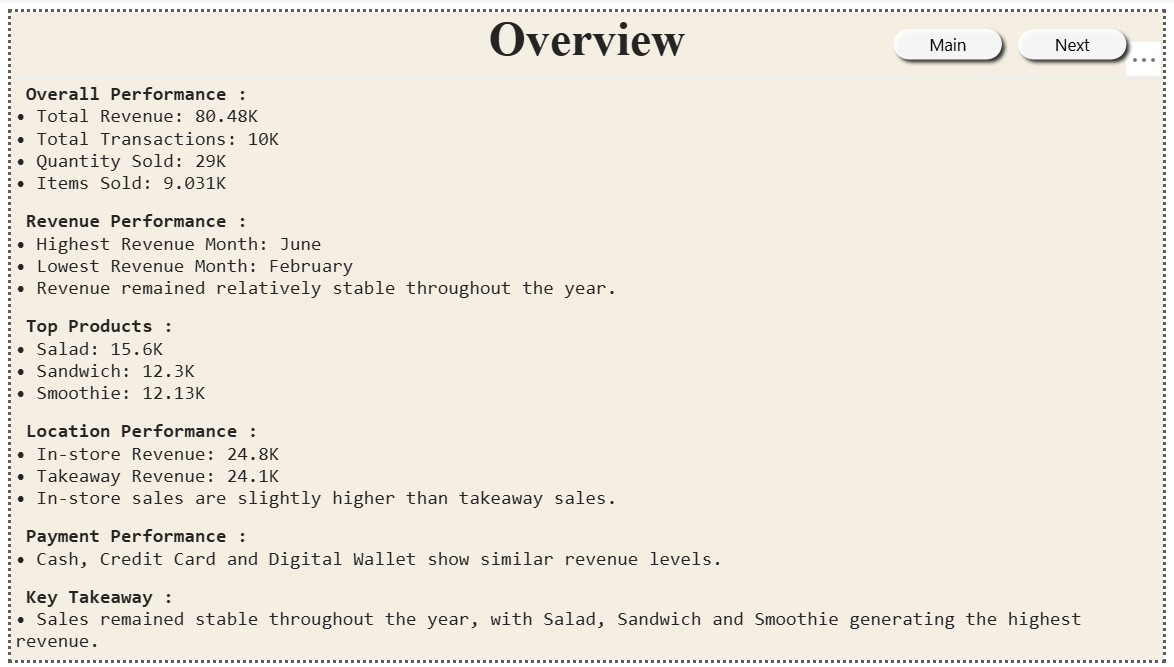

Layout of this report page (visuals, bound fields, positions):
{"tool":"powerbi","page":{"name":"Overview","canvas":[1280,720],"ordinal":1},"visuals":[{"type":"textbox","title":"Overview","box":[0,0,1280,720],"z":0},{"type":"textbox","box":[0,72.5,1280,647.5],"z":1},{"type":"actionButton","box":[1110.3,10.3,138.3,51.7],"z":3},{"type":"actionButton","box":[971.8,10.3,138.3,51.7],"z":4}]}

Visuals, with their boxes in screenshot pixels (x1, y1, x2, y2), scaled from the page's 1280x720 canvas onto the 1174x667 screenshot:
"Overview" textbox: [0, 0, 1173, 666]
textbox: [0, 67, 1173, 666]
actionButton: [1018, 10, 1145, 57]
actionButton: [891, 10, 1018, 57]
